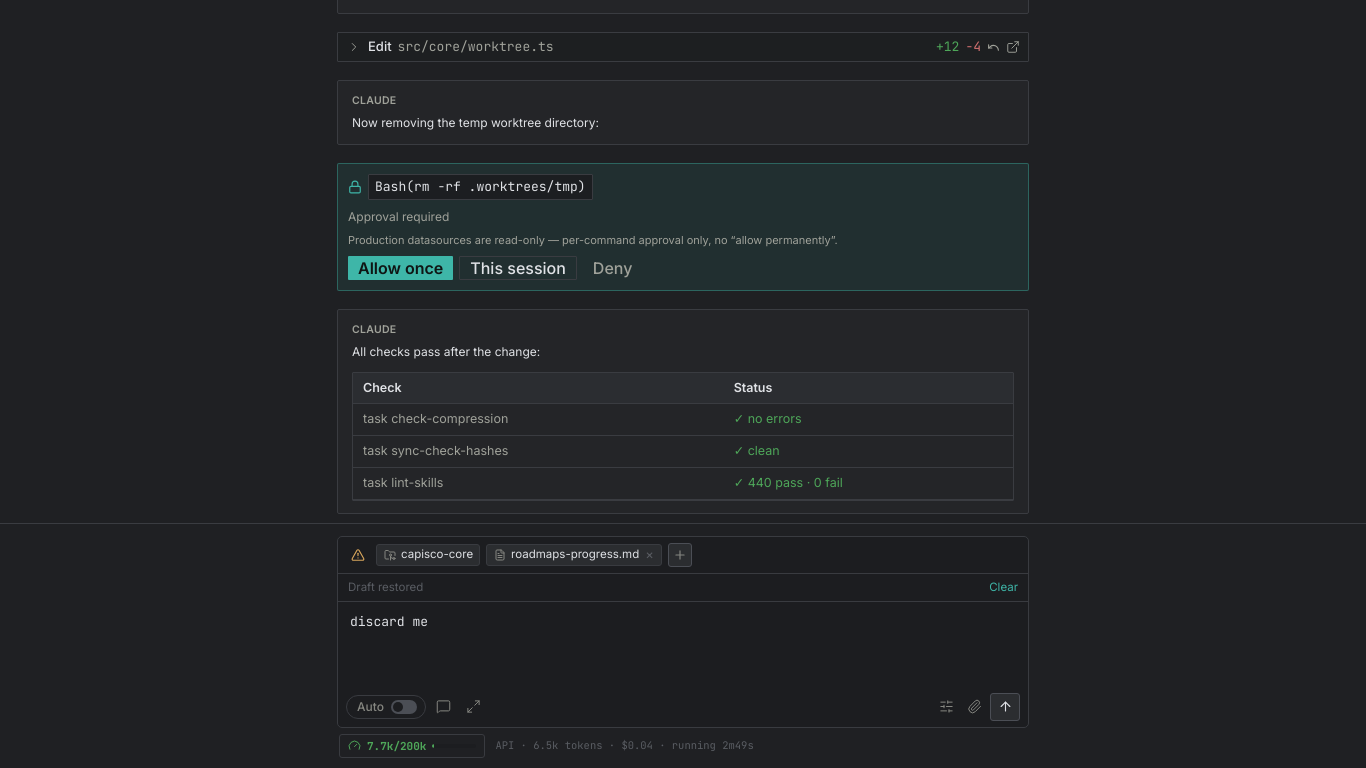
Composer P4 — draft persistence (golden-safety) › Clear removes the draft affordance, empties the field, and clears the store
(page scrolled)
Click the button with test id "composer-draft-clear": (1004, 587) [989, 579, 1018, 596]
(page scrolled)
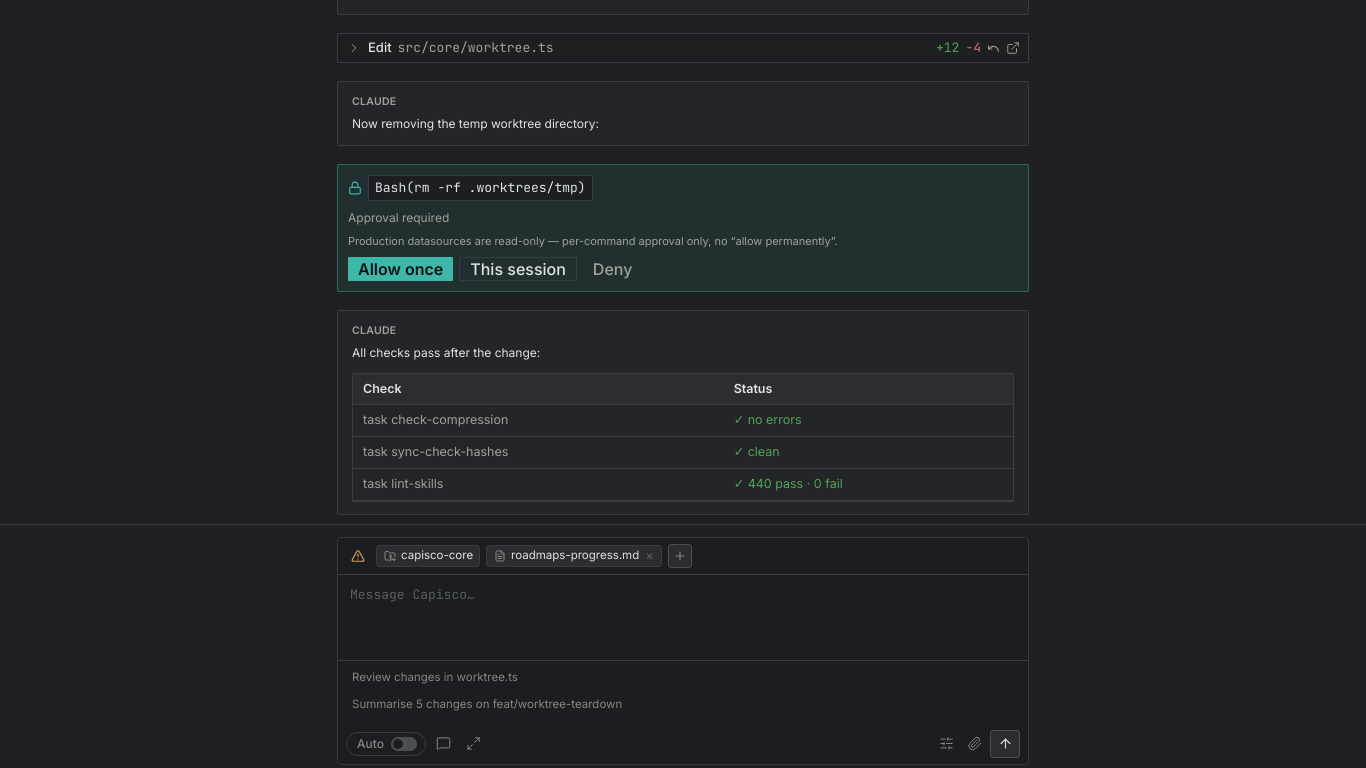
Expected: the message with test id "composer-draft-restored" is gone
Expected: the dropdown with test id "composer-input" is empty, [338, 575, 1028, 654]
